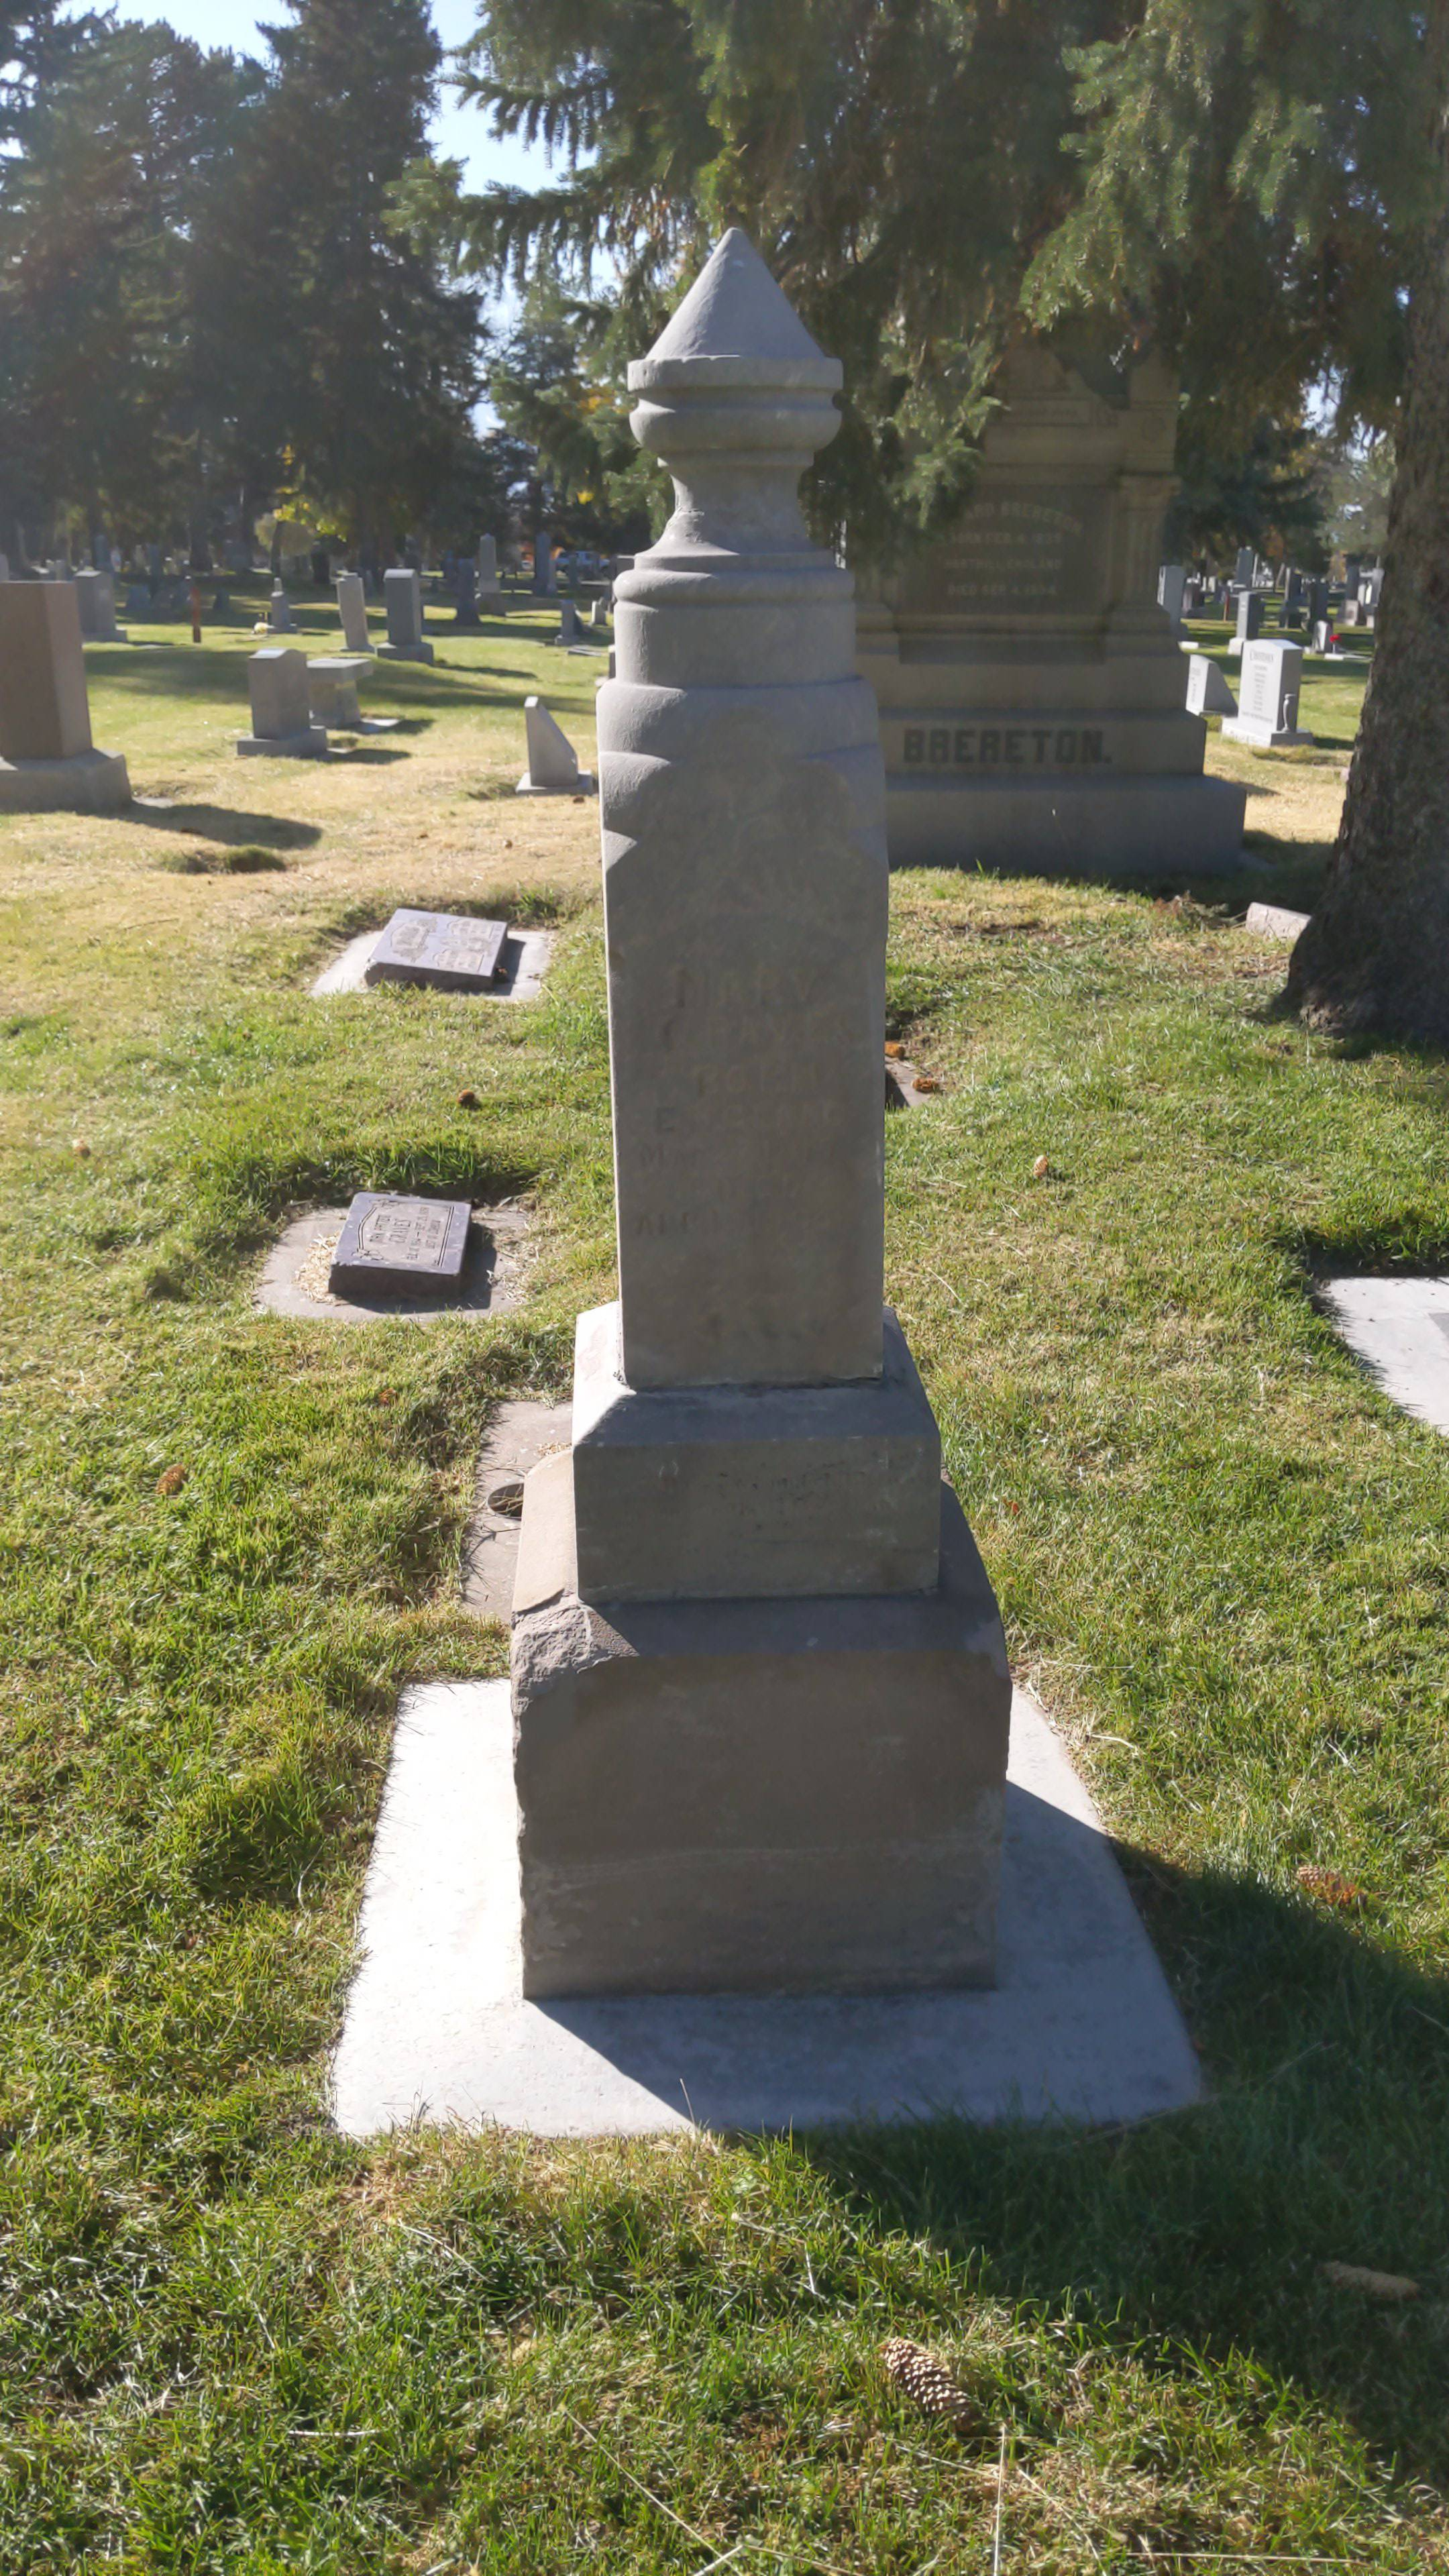obelisk: (571, 218, 938, 1612)
